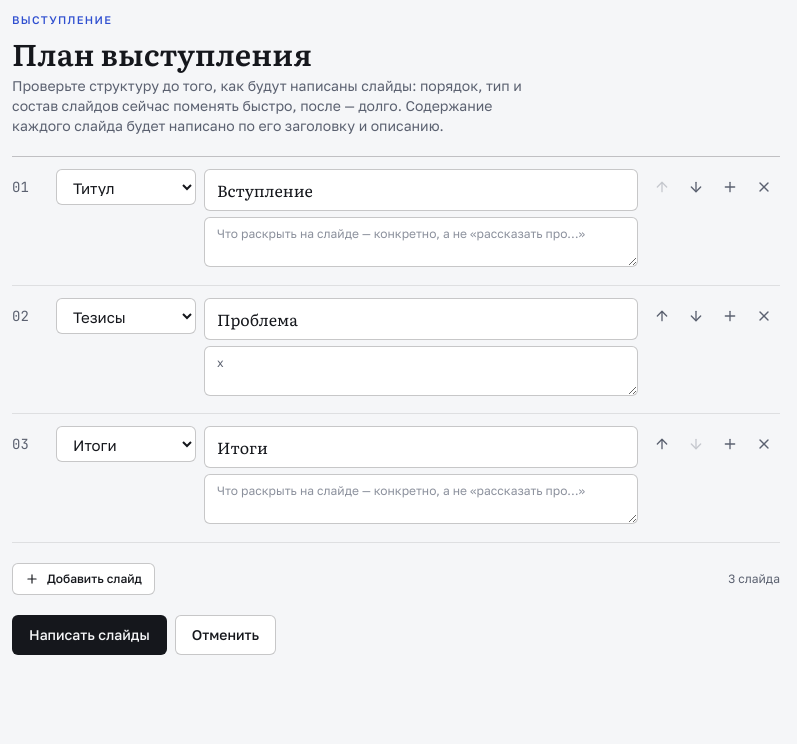
it: OutlineEditor › inserts a new row after the clicked one
Click the button named "Добавить слайд ниже" in the row of "01" at (730, 187), box [714,171,746,203]
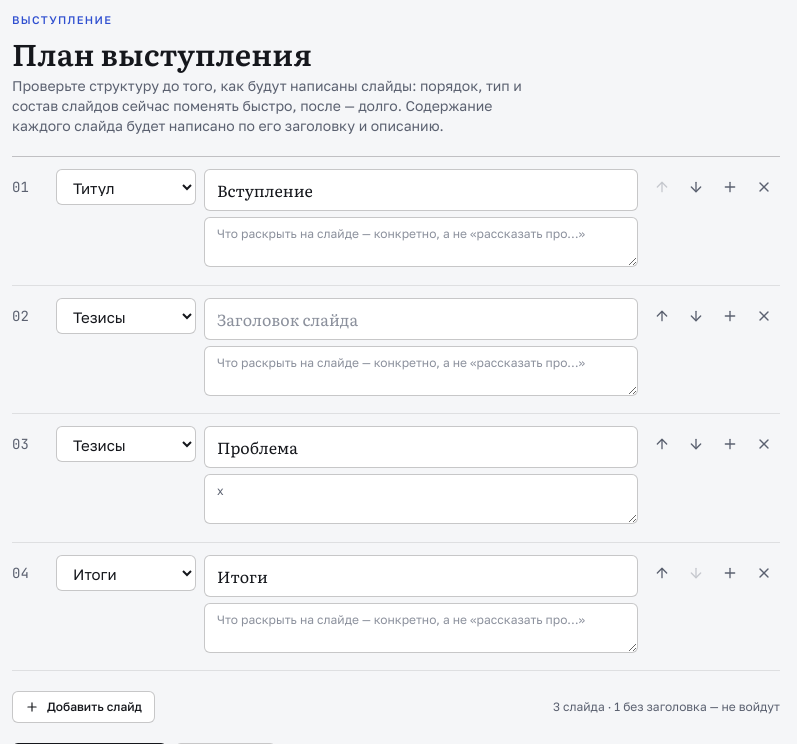
Check: the number of fields named "Заголовок слайда" is 4, box [204,169,638,211]; [204,298,638,340]; [204,426,638,468]; [204,554,638,596]
Check: the field named "Заголовок слайда 2" is empty, box [204,298,638,340]
